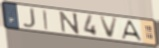4: (83, 14, 99, 38)
A: (120, 19, 144, 43)
I: (42, 9, 49, 31)
J: (21, 7, 37, 29)
N: (59, 11, 82, 35)
V: (99, 16, 120, 39)
